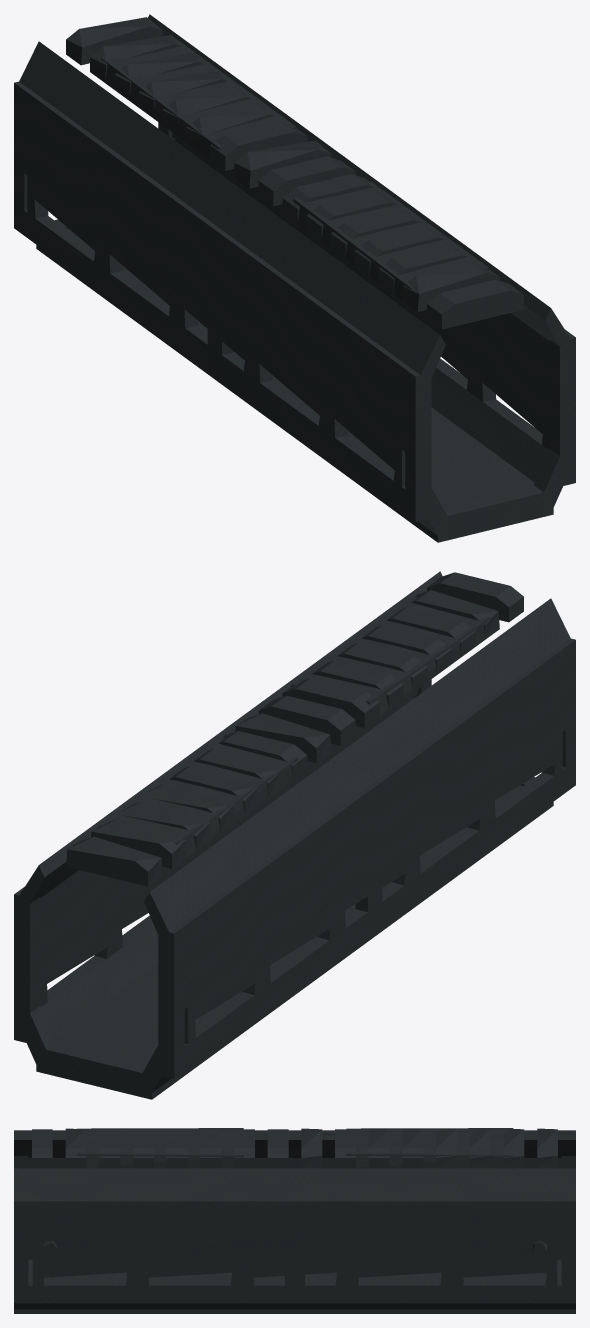
Rendered from mcx_guard.glb.
3 views of the same model, one above another, from view 1: azimuth 30°, elevation 25°; view 2: azimuth 150°, elevation 25°; view 3: azimuth 270°, elevation 25° (orthographic). The views are drawn at different scales.
Parts seen in each view (by area): view 1: handguard__mcx_guard_LOD0_RAID_Secondary_Original_steel, handguard__mcx_guard_LOD1_RAID_Secondary_Original_steel; view 2: handguard__mcx_guard_LOD0_RAID_Secondary_Original_steel, handguard__mcx_guard_LOD1_RAID_Secondary_Original_steel; view 3: handguard__mcx_guard_LOD0_RAID_Secondary_Original_steel, handguard__mcx_guard_LOD1_RAID_Secondary_Original_steel.
Boxes of the visible parts, x1=… form: handguard__mcx_guard_LOD0_RAID_Secondary_Original_steel: x1=14, y1=14, x2=575, y2=542; handguard__mcx_guard_LOD1_RAID_Secondary_Original_steel: x1=27, y1=30, x2=575, y2=528; handguard__mcx_guard_LOD0_RAID_Secondary_Original_steel: x1=14, y1=571, x2=575, y2=1099; handguard__mcx_guard_LOD1_RAID_Secondary_Original_steel: x1=14, y1=596, x2=572, y2=1076; handguard__mcx_guard_LOD0_RAID_Secondary_Original_steel: x1=14, y1=1128, x2=575, y2=1313; handguard__mcx_guard_LOD1_RAID_Secondary_Original_steel: x1=14, y1=1128, x2=573, y2=1303.
Size of the model in its own units: 0.094 by 0.119 by 0.39.
Materials: 1 (1 with a texture image).
